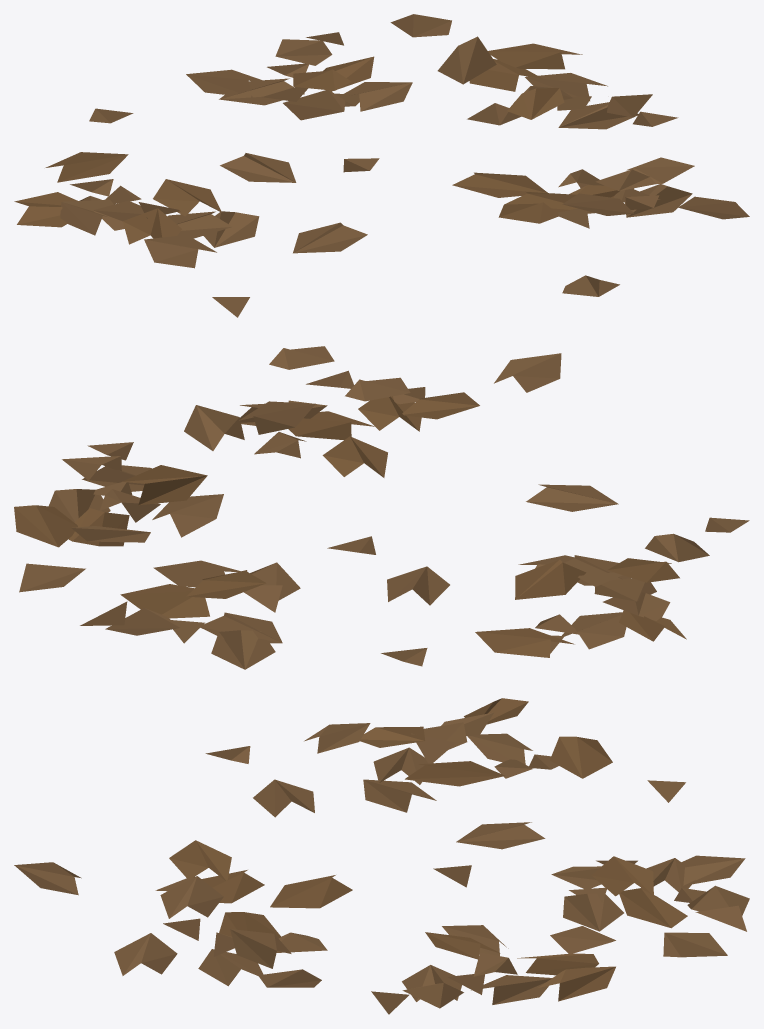
Rendered from SM_Env_Leaves_01.glb.
3 views of the same model, one above another, from view 1: azimuth 30°, elevation 25°; view 2: azimuth 150°, elevation 25°; view 3: azimuth 270°, elevation 25° (orthographic). The views are drawn at different scales.
Visible parts, largest first — view 1: SM_Env_Leaves_01; view 2: SM_Env_Leaves_01; view 3: SM_Env_Leaves_01.
Part boxes in pixels (x1,y1,x2,y2): SM_Env_Leaves_01: (14, 14, 749, 317); SM_Env_Leaves_01: (14, 346, 749, 669); SM_Env_Leaves_01: (14, 698, 749, 1014).
Size of the model in its own units: 225 by 15.36 by 227.
Materials: 1 (1 with a texture image).
